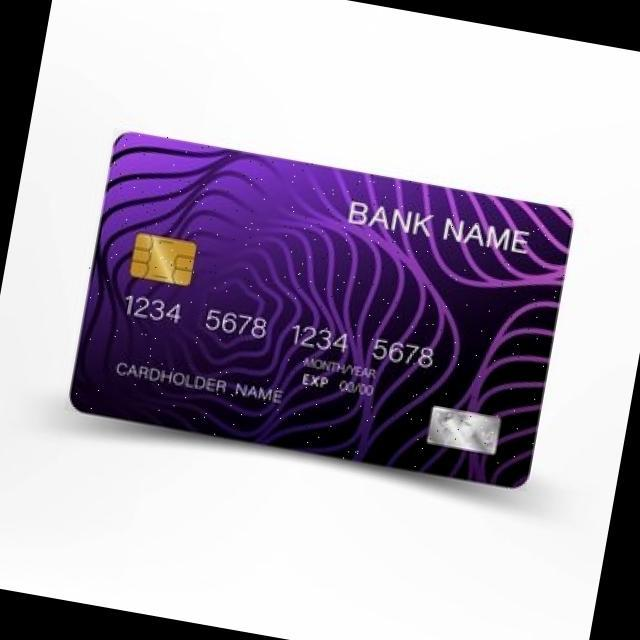payment_card: (68, 129, 574, 489)
